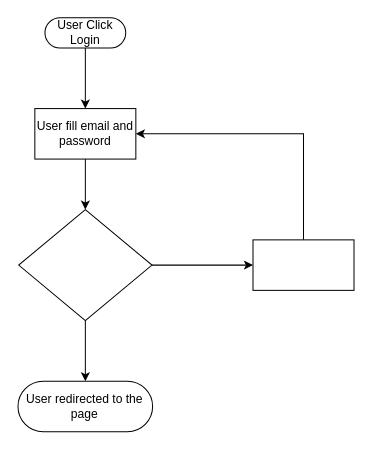
Image size: 372x449. Some labels were removed from this diagram. The shapes that lost their labels are listed below. From the top down, each one's centre as x and y in pixels, then its label:
the point at 85,265: E-Mail and Password are correct?
the point at 303,264: Show error message
